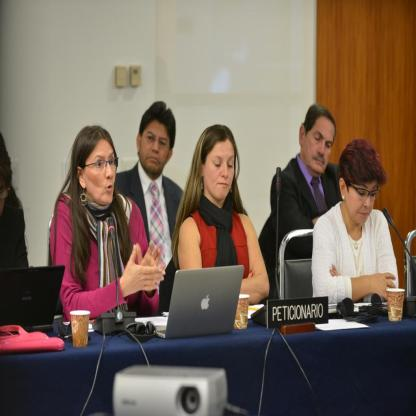board: (166, 265, 248, 338), (0, 266, 66, 332)
